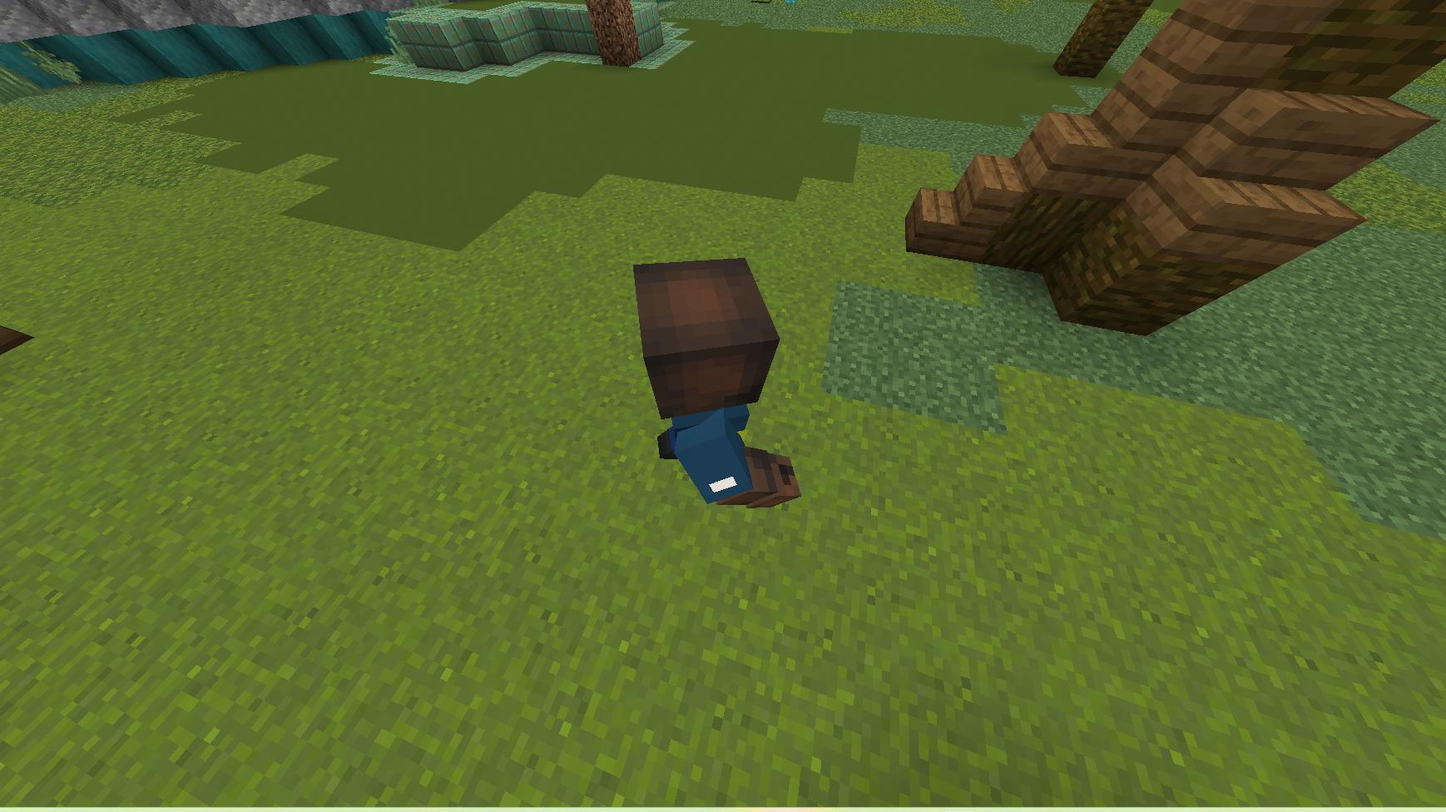Guardian: (634, 259, 799, 508)
